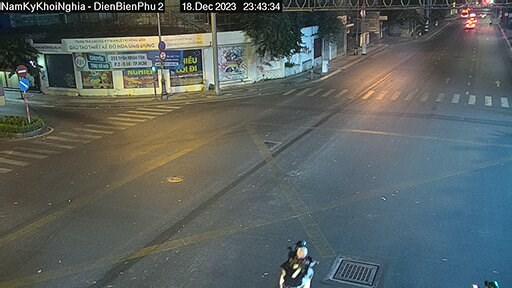motorbike: (276, 231, 323, 285)
